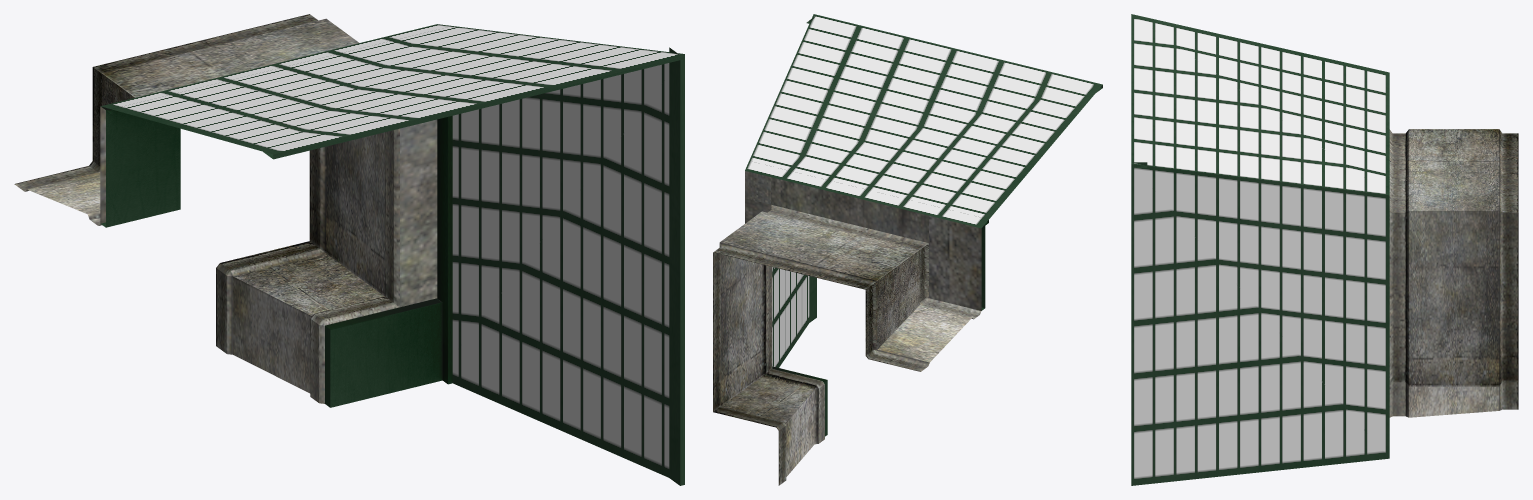
File: tdr_t_test_Corner.obj
The picture shows the model from 3 angles, left to right: view 1: azimuth 30°, elevation 25°; view 2: azimuth 150°, elevation 25°; view 3: azimuth 270°, elevation 25°; orthographic projection. The views are drawn at different scales.
Parts seen in each view (by area): view 1: Cube.001_Cube.002; view 2: Cube.001_Cube.002; view 3: Cube.001_Cube.002.
Part boxes in pixels (<box>): Cube.001_Cube.002: <box>14,14,684,485</box>; Cube.001_Cube.002: <box>713,14,1102,485</box>; Cube.001_Cube.002: <box>1131,14,1518,485</box>.
Size of the model in its own units: 1408 by 1408 by 1536.
3 materials, 3 textured.
